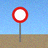sign: (12, 7, 28, 42)
